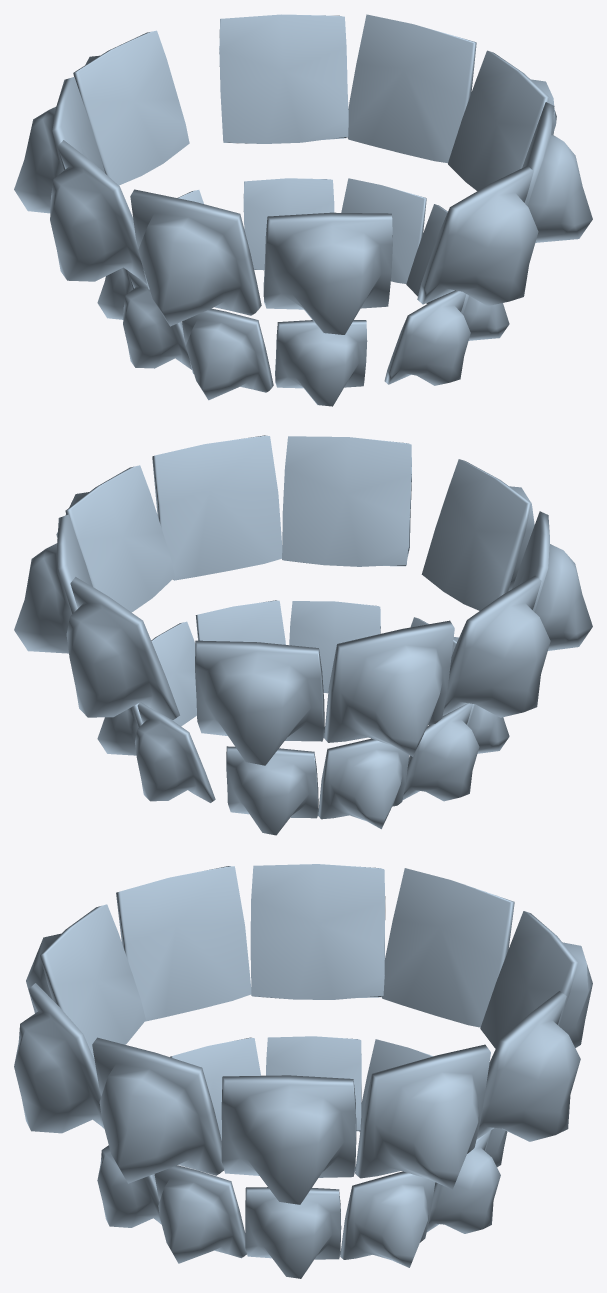
The model's file is Statues_Grp_02B_Lod1.fbx.
3 renders of one model, top to bottom at view 1: azimuth 30°, elevation 25°; view 2: azimuth 150°, elevation 25°; view 3: azimuth 270°, elevation 25°, orthographic. The views are drawn at different scales.
Visible parts, largest first — view 1: Statues_Grp_02B_Lod1; view 2: Statues_Grp_02B_Lod1; view 3: Statues_Grp_02B_Lod1.
Boxes of the visible parts, x1=… form: Statues_Grp_02B_Lod1: x1=14, y1=14, x2=592, y2=406; Statues_Grp_02B_Lod1: x1=14, y1=435, x2=592, y2=835; Statues_Grp_02B_Lod1: x1=14, y1=864, x2=592, y2=1278.
Bounding box in the file's own units: 247 × 108 × 241.
